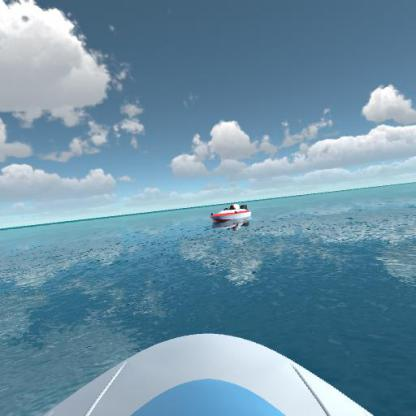usv3: (206, 200, 256, 224)
